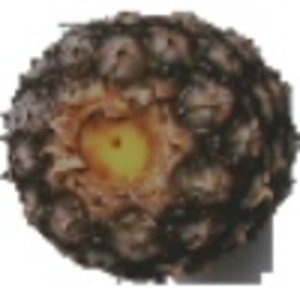abacaxi: (8, 10, 294, 281)
